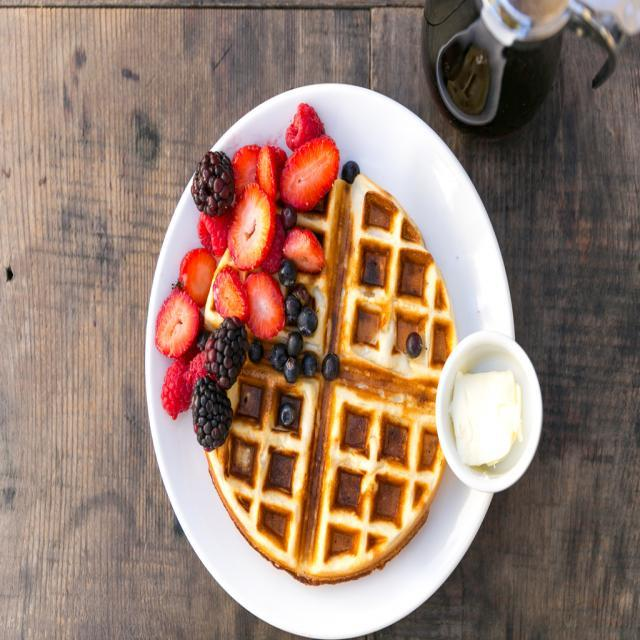Waffle: (203, 173, 456, 585)
